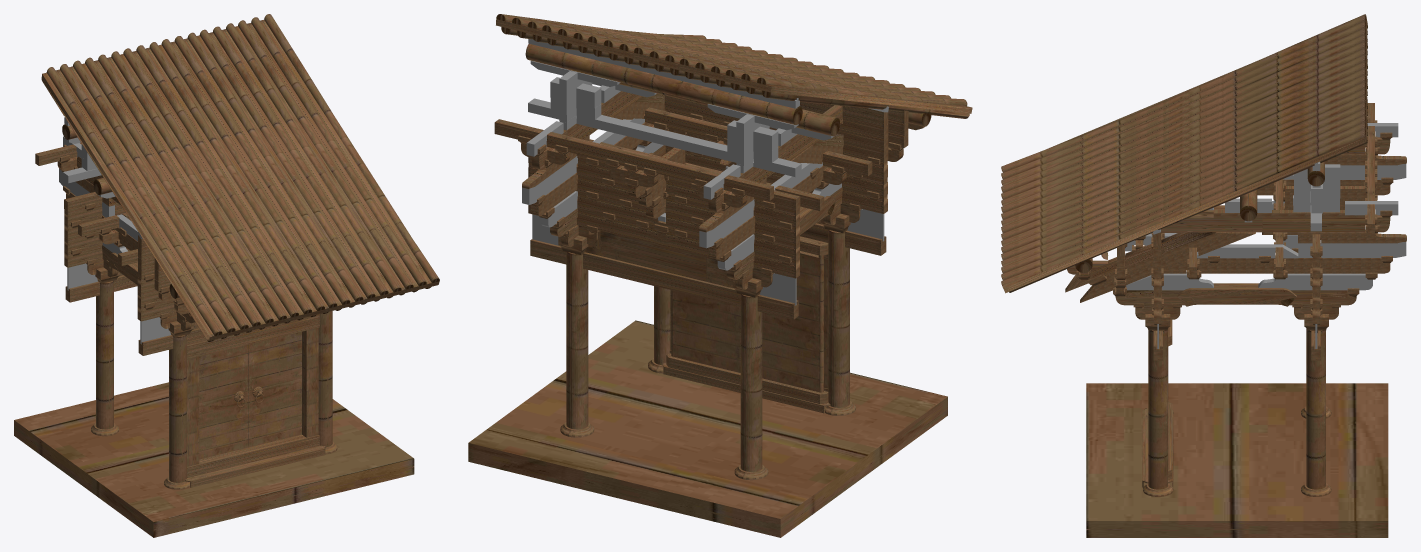
File: 佛光寺 (2).FBX
3 views of the same model, side by side, from view 1: azimuth 30°, elevation 25°; view 2: azimuth 150°, elevation 25°; view 3: azimuth 270°, elevation 25° (orthographic). The views are drawn at different scales.
Parts seen in each view (by area): view 1: 底座, 瓦片, 瓦片005, 瓦片001, 瓦片003, 瓦片002, 瓦片004, 大门1, 大门, 檐柱4, 檐柱2, 门槛 (+14 smaller); view 2: 底座, 大门, 瓦片, 椽子005, 大门1, 阑额2, 檐柱4, 檐柱3, 平棋枋一, 檐柱2, 压槽枋, 柱头枋一001 (+42 smaller); view 3: 底座, 瓦片005, 瓦片, 瓦片002, 瓦片001, 瓦片003, 瓦片004, 明乳付1, 草乳枋+华拱头003, 檐柱1, 檐柱3, 素枋002 (+18 smaller).
Boxes of the visible parts, bbox=[...] form: 底座: bbox=[14, 382, 414, 537]; 瓦片: bbox=[41, 60, 248, 341]; 瓦片005: bbox=[235, 14, 439, 295]; 瓦片001: bbox=[82, 51, 286, 332]; 瓦片003: bbox=[158, 32, 363, 313]; 瓦片002: bbox=[120, 42, 324, 323]; 瓦片004: bbox=[196, 23, 401, 304]; 大门1: bbox=[248, 332, 301, 447]; 大门: bbox=[199, 345, 248, 459]; 檐柱4: bbox=[96, 281, 113, 429]; 檐柱2: bbox=[169, 334, 186, 482]; 门槛: bbox=[187, 434, 319, 477]; 底座: bbox=[468, 320, 947, 537]; 大门: bbox=[762, 251, 819, 392]; 瓦片: bbox=[725, 70, 972, 118]; 椽子005: bbox=[525, 44, 802, 124]; 大门1: bbox=[672, 290, 740, 372]; 阑额2: bbox=[530, 239, 798, 319]; 檐柱4: bbox=[740, 294, 762, 471]; 檐柱3: bbox=[566, 251, 588, 429]; 平棋枋一: bbox=[494, 119, 773, 200]; 檐柱2: bbox=[828, 230, 849, 407]; 压槽枋: bbox=[528, 98, 801, 176]; 柱头枋一001: bbox=[528, 204, 799, 278]; 底座: bbox=[1086, 383, 1388, 537]; 瓦片005: bbox=[1001, 115, 1367, 293]; 瓦片: bbox=[1001, 14, 1367, 185]; 瓦片002: bbox=[1001, 54, 1367, 226]; 瓦片001: bbox=[1001, 34, 1367, 205]; 瓦片003: bbox=[1001, 74, 1367, 246]; 瓦片004: bbox=[1001, 95, 1367, 266]; 明乳付1: bbox=[1115, 283, 1356, 306]; 草乳枋+华拱头003: bbox=[1161, 214, 1390, 232]; 檐柱1: bbox=[1148, 329, 1167, 489]; 檐柱3: bbox=[1306, 328, 1325, 489]; 素枋002: bbox=[1163, 255, 1390, 273].
Bounding box in the file's own units: 33.88 × 45.95 × 42.25.
Materials: 2 (1 with a texture image).
